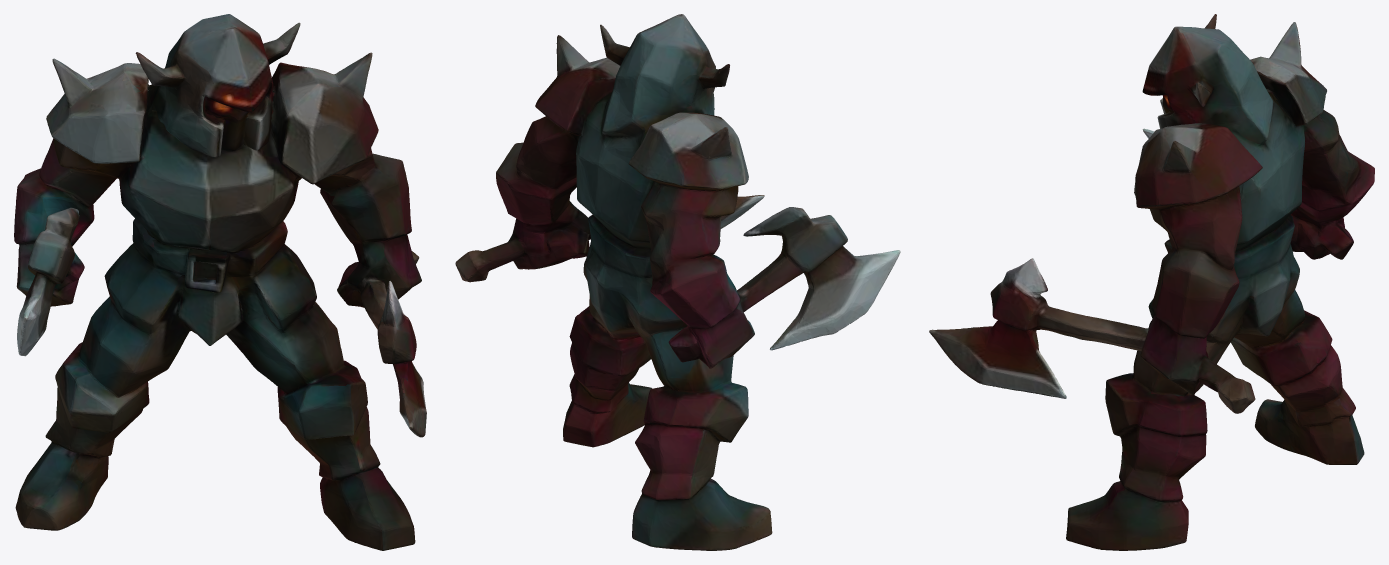
Rendered from REAVER.glb.
The picture shows the model from 3 angles, left to right: view 1: azimuth 30°, elevation 25°; view 2: azimuth 150°, elevation 25°; view 3: azimuth 270°, elevation 25°; orthographic projection. The views are drawn at different scales.
Parts seen in each view (by area): view 1: REAVER_512; view 2: REAVER_512; view 3: REAVER_512.
Boxes of the visible parts, bbox=[...] form: REAVER_512: bbox=[14, 14, 426, 550]; REAVER_512: bbox=[455, 14, 900, 550]; REAVER_512: bbox=[929, 14, 1374, 550].
Bounding box in the file's own units: 1.83 × 1.99 × 1.75.
Materials: 1 (1 with a texture image).
